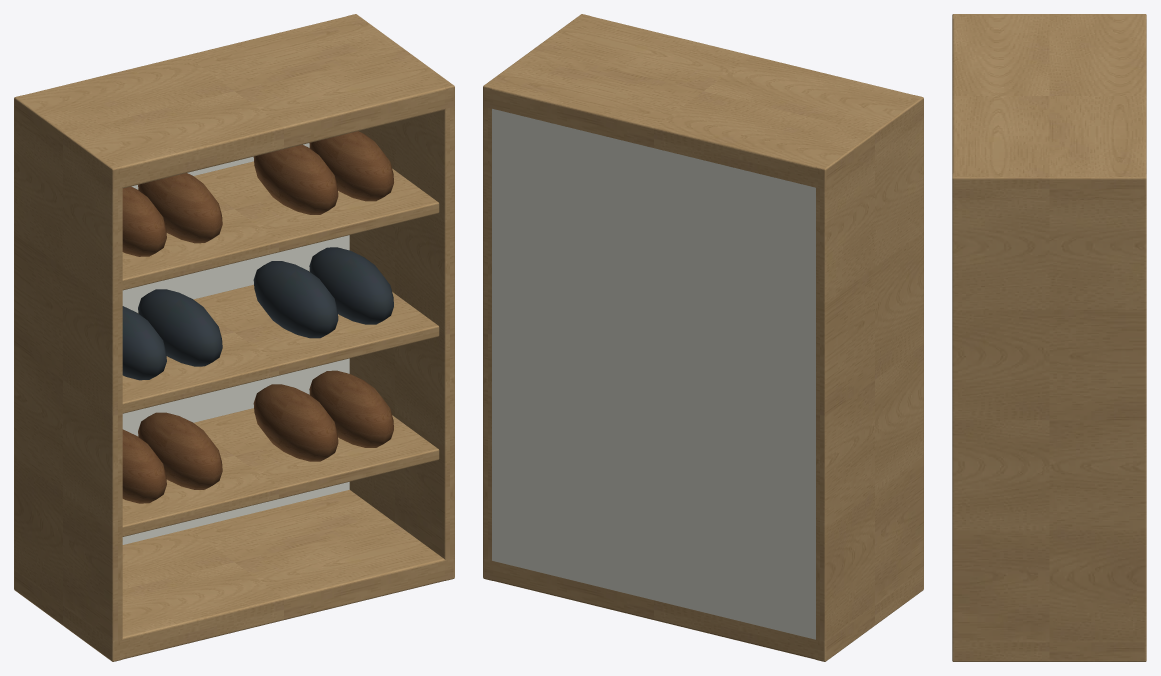
File: walk-in-shoe-rack-module-original-interior-furnishing.glb
3 views of the same model, side by side, from view 1: azimuth 30°, elevation 25°; view 2: azimuth 150°, elevation 25°; view 3: azimuth 270°, elevation 25° (orthographic).
Visible parts, largest first — view 1: Cabinet side, Cabinet top bottom.001, Cabinet top bottom, Cabinet side.001, Adjustable shelf.001, Adjustable shelf, Adjustable shelf.002, Cabinet back, Original shoe form.006, Original shoe form.002, Original shoe form.005, Original shoe form.007 (+8 smaller); view 2: Cabinet back, Cabinet side, Cabinet top bottom.001, Cabinet top bottom, Cabinet side.001; view 3: Cabinet side.001, Cabinet top bottom.001, Cabinet top bottom.
Part boxes in pixels (x1,y1,x2,y2): Cabinet side: [14, 95, 122, 661]; Cabinet top bottom.001: [14, 14, 453, 189]; Cabinet top bottom: [14, 489, 453, 660]; Cabinet side.001: [347, 14, 454, 580]; Adjustable shelf.001: [122, 271, 439, 413]; Adjustable shelf: [122, 408, 439, 536]; Adjustable shelf.002: [122, 161, 439, 290]; Cabinet back: [122, 143, 349, 544]; Original shoe form.006: [253, 261, 338, 338]; Original shoe form.002: [253, 384, 338, 461]; Original shoe form.005: [138, 289, 222, 366]; Original shoe form.007: [309, 247, 393, 324]; Cabinet back: [492, 108, 815, 639]; Cabinet side: [815, 95, 923, 661]; Cabinet top bottom.001: [484, 14, 923, 189]; Cabinet top bottom: [484, 559, 923, 660]; Cabinet side.001: [483, 14, 590, 580]; Cabinet side.001: [952, 173, 1146, 661]; Cabinet top bottom.001: [952, 14, 1146, 197]; Cabinet top bottom: [954, 642, 1144, 660].
Bounding box in the file's own units: 0.8 × 1.1 × 0.4001.
Materials: 4 (4 with a texture image).
